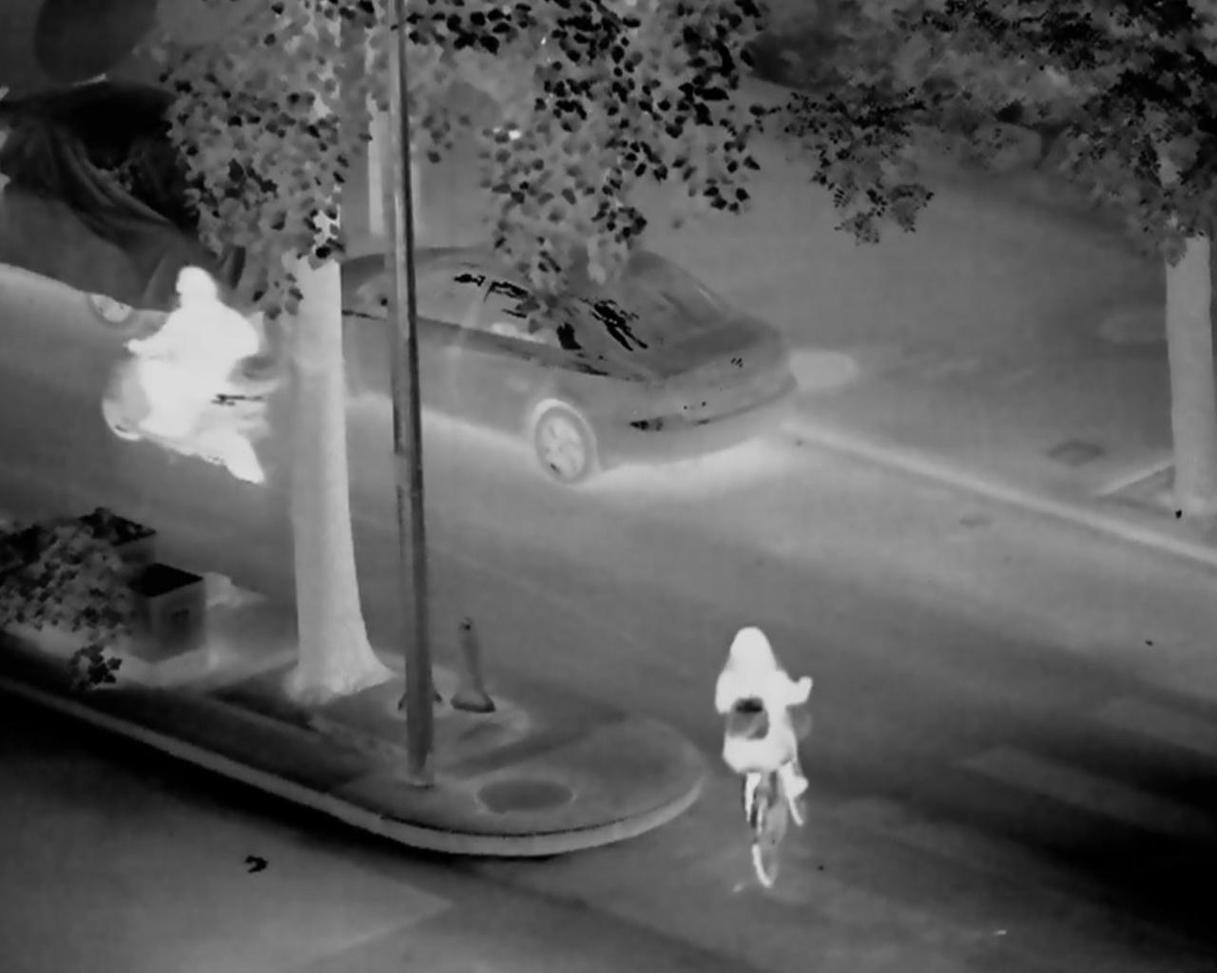person: (684, 617, 827, 851), (126, 258, 278, 457)
